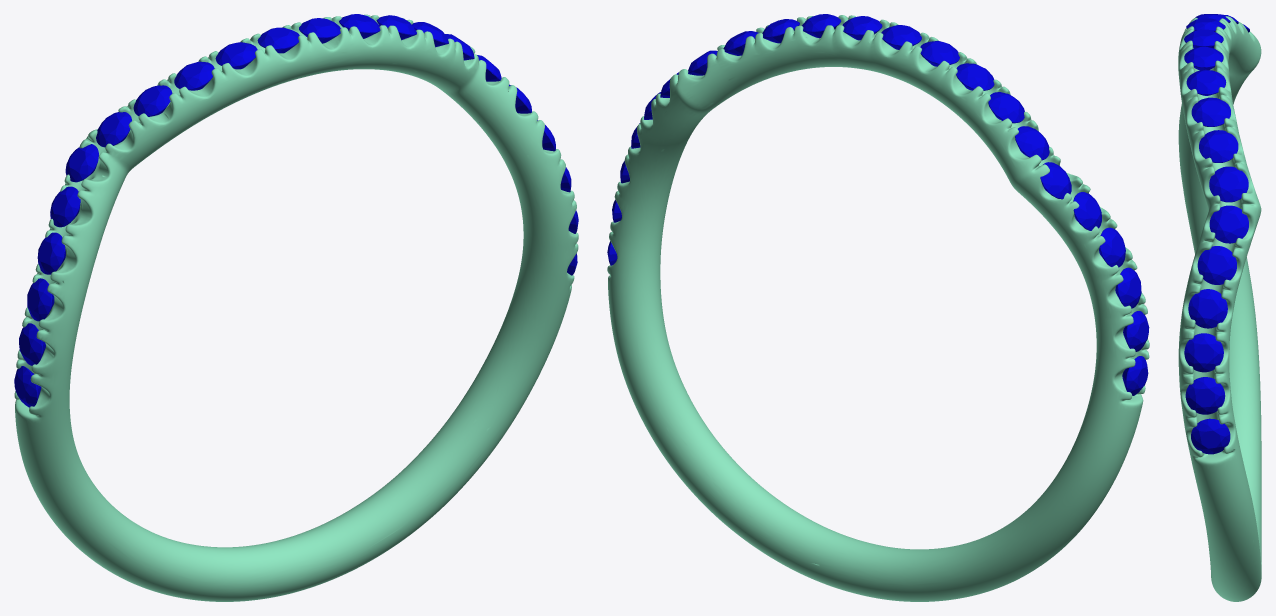
3 renders of one model, left to right at view 1: azimuth 30°, elevation 25°; view 2: azimuth 150°, elevation 25°; view 3: azimuth 270°, elevation 25°, orthographic. The views are drawn at different scales.
Parts seen in each view (by area): view 1: Metal03, Diamond_Band004, Diamond_Band019, Diamond_Band018, Diamond_Band003, Diamond_Band005, Diamond_Band006, Diamond_Band002, Diamond_Band007, Diamond_Band001, Diamond_Band008, Diamond_Band; view 2: Metal03, Diamond_Band005, Diamond_Band004, Diamond_Band018, Diamond_Band003, Diamond_Band006, Diamond_Band002, Diamond_Band019, Diamond_Band007, Diamond_Band001; view 3: Metal03, Diamond_Band014, Diamond_Band015, Diamond_Band013, Diamond_Band016, Diamond_Band021, Diamond_Band017, Diamond_Band020, Diamond_Band012, Diamond_Band011, Diamond_Band010, Diamond_Band009 (+3 smaller).
Boxes of the visible parts, x1,y1,x2,y2 form: Metal03: [14, 14, 578, 601]; Diamond_Band004: [50, 186, 80, 227]; Diamond_Band019: [65, 144, 98, 182]; Diamond_Band018: [96, 112, 131, 147]; Diamond_Band003: [37, 232, 65, 274]; Diamond_Band005: [133, 85, 172, 116]; Diamond_Band006: [174, 61, 214, 90]; Diamond_Band002: [27, 278, 54, 321]; Diamond_Band007: [215, 42, 257, 69]; Diamond_Band001: [19, 323, 45, 365]; Diamond_Band008: [257, 27, 299, 53]; Diamond_Band: [14, 366, 41, 407]; Metal03: [607, 15, 1149, 601]; Diamond_Band005: [988, 92, 1024, 123]; Diamond_Band004: [1073, 192, 1101, 230]; Diamond_Band018: [1015, 126, 1049, 160]; Diamond_Band003: [1099, 227, 1125, 267]; Diamond_Band006: [956, 63, 994, 90]; Diamond_Band002: [1115, 267, 1141, 308]; Diamond_Band019: [1040, 162, 1071, 199]; Diamond_Band007: [920, 41, 959, 66]; Diamond_Band001: [1123, 311, 1149, 351]; Metal03: [1178, 16, 1261, 601]; Diamond_Band014: [1188, 289, 1227, 328]; Diamond_Band015: [1184, 333, 1223, 372]; Diamond_Band013: [1197, 246, 1236, 284]; Diamond_Band016: [1185, 377, 1225, 414]; Diamond_Band021: [1209, 205, 1248, 243]; Diamond_Band017: [1191, 418, 1230, 454]; Diamond_Band020: [1209, 166, 1248, 202]; Diamond_Band012: [1199, 130, 1238, 162]; Diamond_Band011: [1191, 97, 1230, 126]; Diamond_Band010: [1186, 69, 1226, 95]; Diamond_Band009: [1184, 46, 1223, 70].
Bounding box in the file's own units: 20.8 × 20.83 × 2.95.
